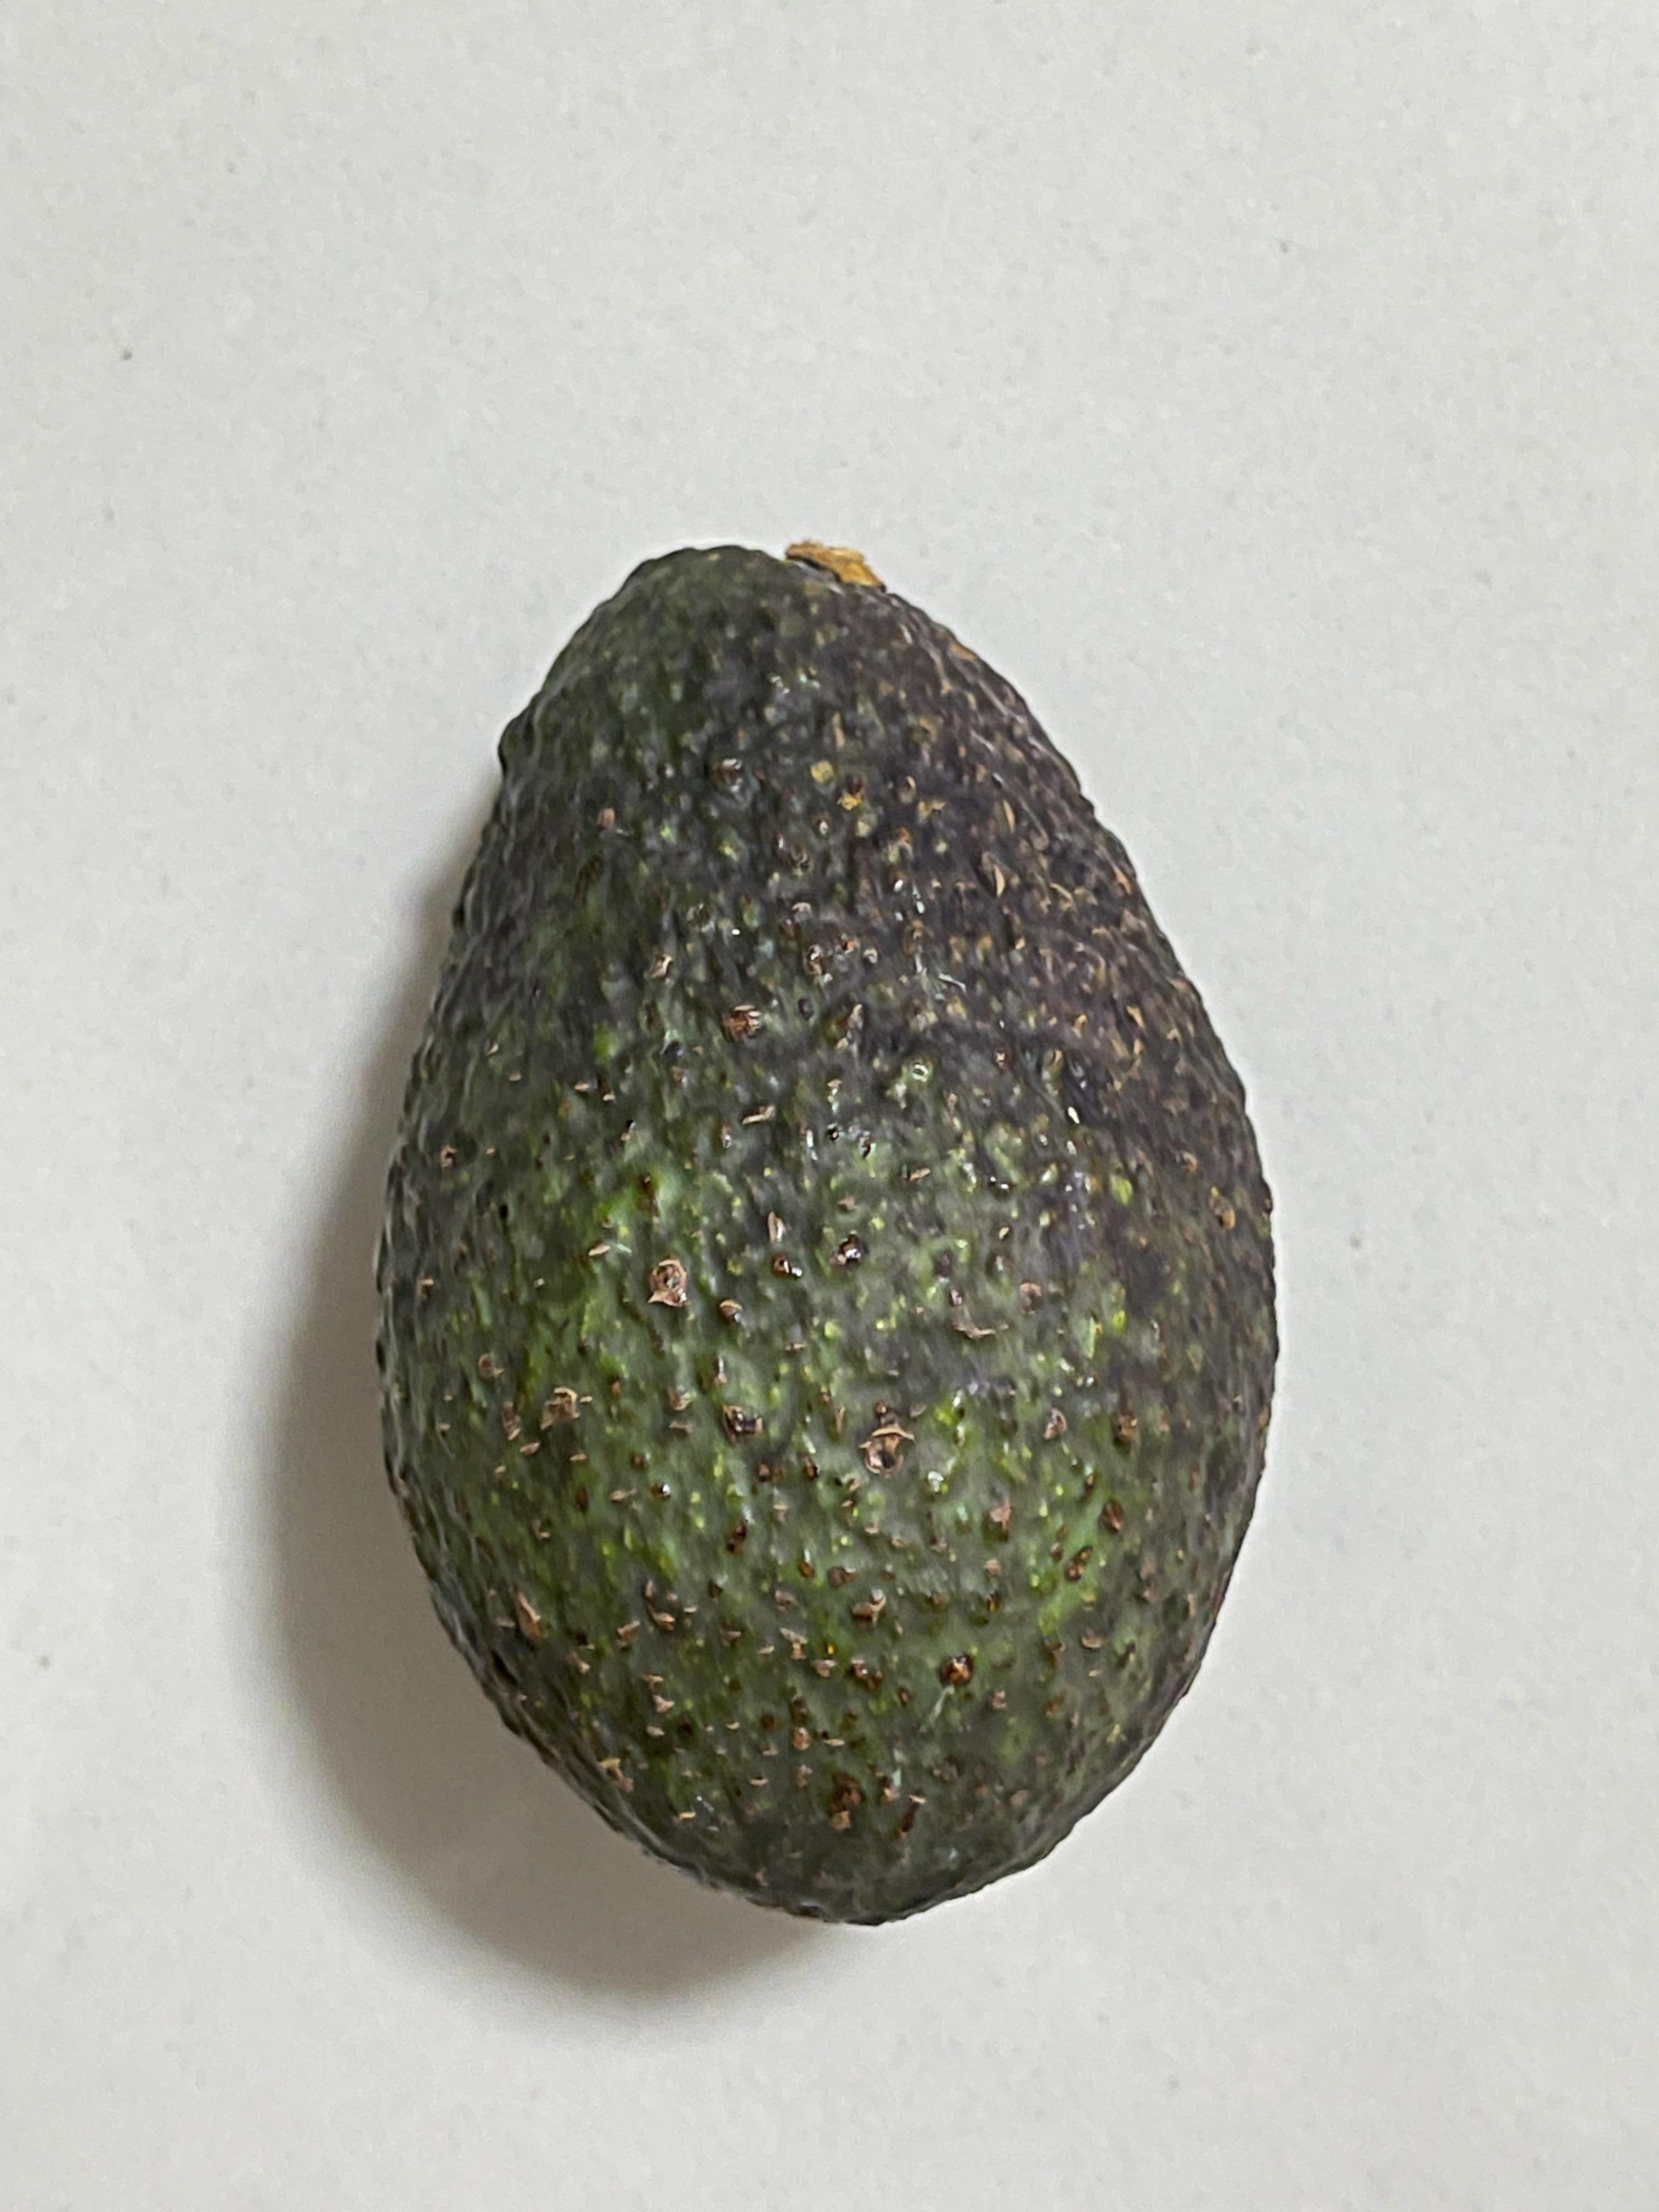Level1: (345, 462, 1321, 1958)
